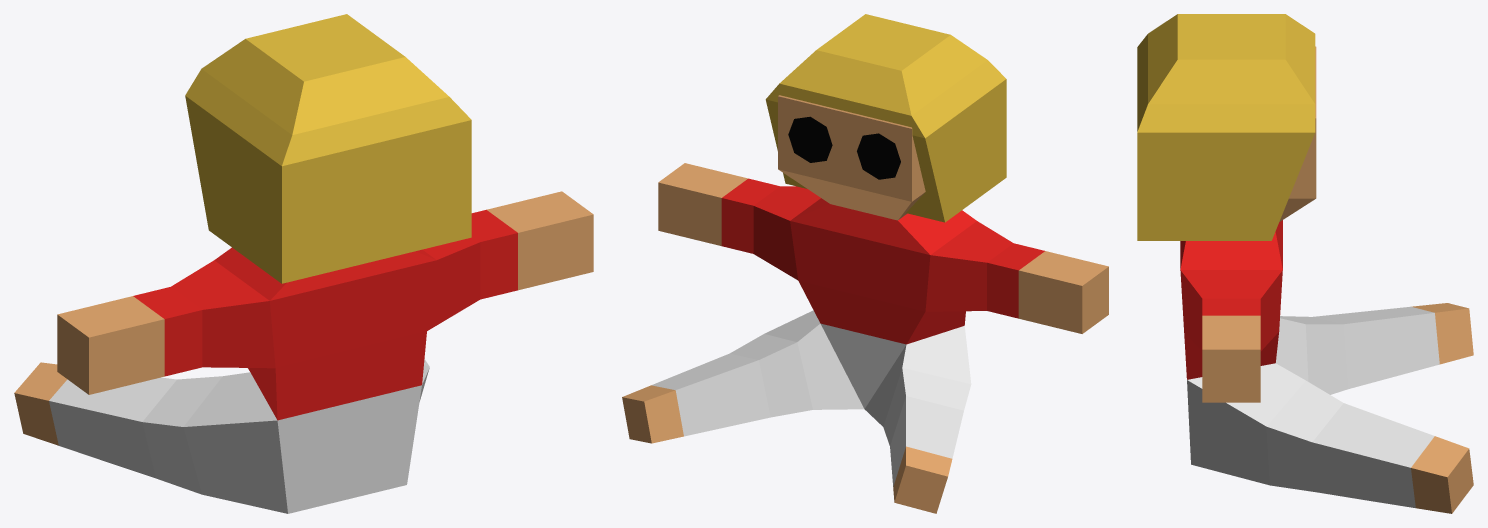
The model's file is doll.glb.
The picture shows the model from 3 angles, left to right: view 1: azimuth 30°, elevation 25°; view 2: azimuth 150°, elevation 25°; view 3: azimuth 270°, elevation 25°; orthographic projection. The views are drawn at different scales.
Parts seen in each view (by area): view 1: Child, Hair; view 2: Child, Hair, Eye, Eye.001; view 3: Child, Hair.
Boxes of the visible parts, x1,y1,x2,y2 form: Child: (14, 191, 593, 513); Hair: (185, 14, 471, 283); Child: (622, 95, 1108, 513); Hair: (765, 14, 1006, 222); Eye: (857, 133, 900, 179); Eye.001: (788, 116, 832, 162); Child: (1180, 46, 1473, 513); Hair: (1137, 14, 1315, 240).
Size of the model in its own units: 0.877 by 0.7258 by 0.55.
